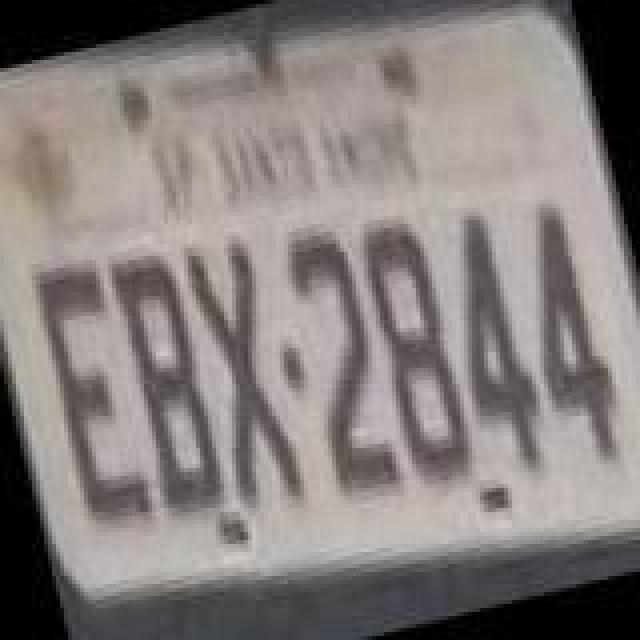2: (276, 222, 412, 514)
4: (500, 196, 636, 476), (426, 206, 558, 482)
8: (346, 204, 486, 500)
B: (102, 240, 234, 528)
E: (28, 250, 164, 534)
X: (174, 230, 314, 522)
